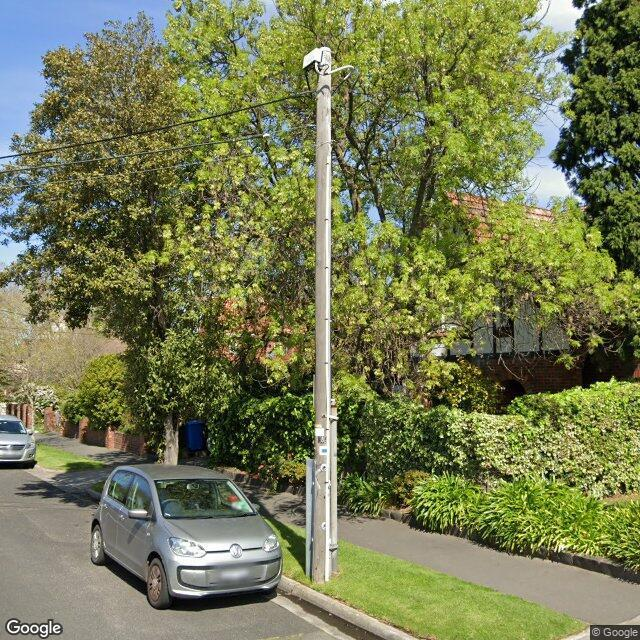timber-pole: (312, 45, 332, 586)
